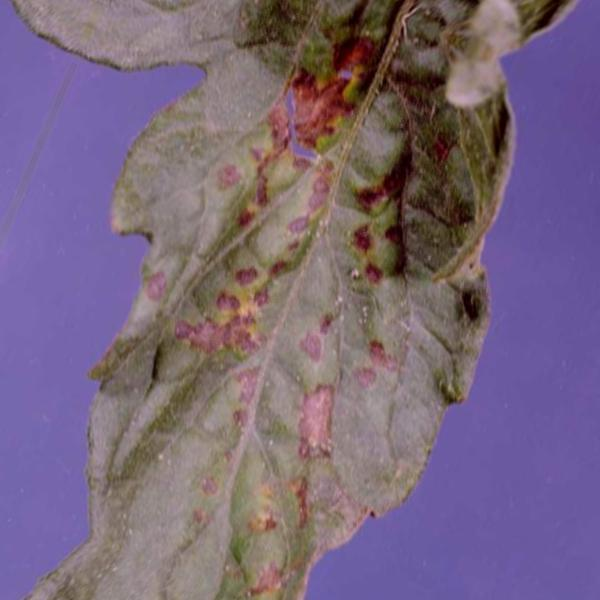Tomato leaf bacterial spot: (0, 0, 598, 600)
